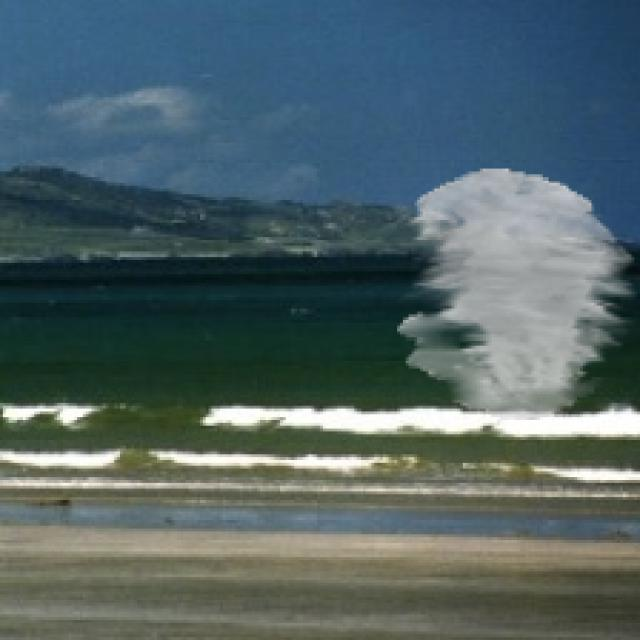smoke: (397, 169, 637, 420)
